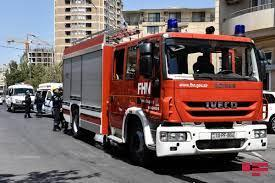Fire-engine: (60, 20, 275, 154)
